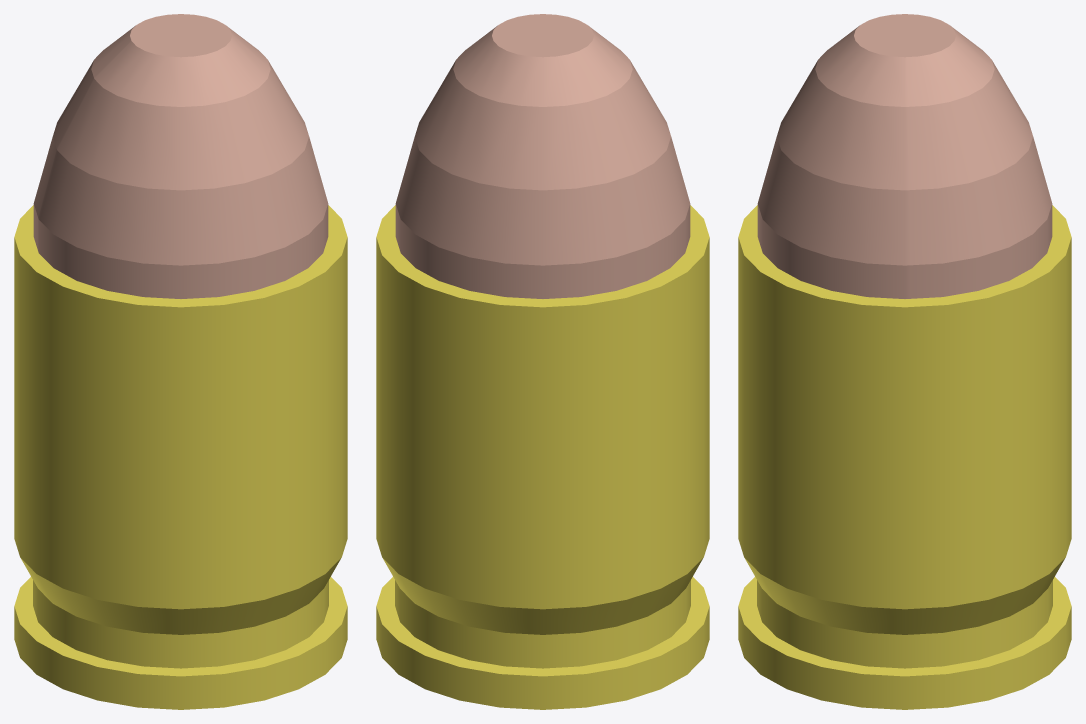
File: ammo_pistol.glb
3 renders of one model, left to right at view 1: azimuth 30°, elevation 25°; view 2: azimuth 150°, elevation 25°; view 3: azimuth 270°, elevation 25°, orthographic.
Visible parts, largest first — view 1: Mesh1 Group2 Group1 Model, Mesh2 Group3 Group1 Model; view 2: Mesh1 Group2 Group1 Model, Mesh2 Group3 Group1 Model; view 3: Mesh1 Group2 Group1 Model, Mesh2 Group3 Group1 Model.
Part boxes in pixels (x1=…): Mesh1 Group2 Group1 Model: x1=14, y1=205, x2=347, y2=709; Mesh2 Group3 Group1 Model: x1=33, y1=14, x2=328, y2=298; Mesh1 Group2 Group1 Model: x1=376, y1=205, x2=709, y2=709; Mesh2 Group3 Group1 Model: x1=395, y1=14, x2=690, y2=298; Mesh1 Group2 Group1 Model: x1=738, y1=205, x2=1071, y2=709; Mesh2 Group3 Group1 Model: x1=757, y1=14, x2=1052, y2=298.
Size of the model in its own units: 0.0054 by 0.0108 by 0.0054.
